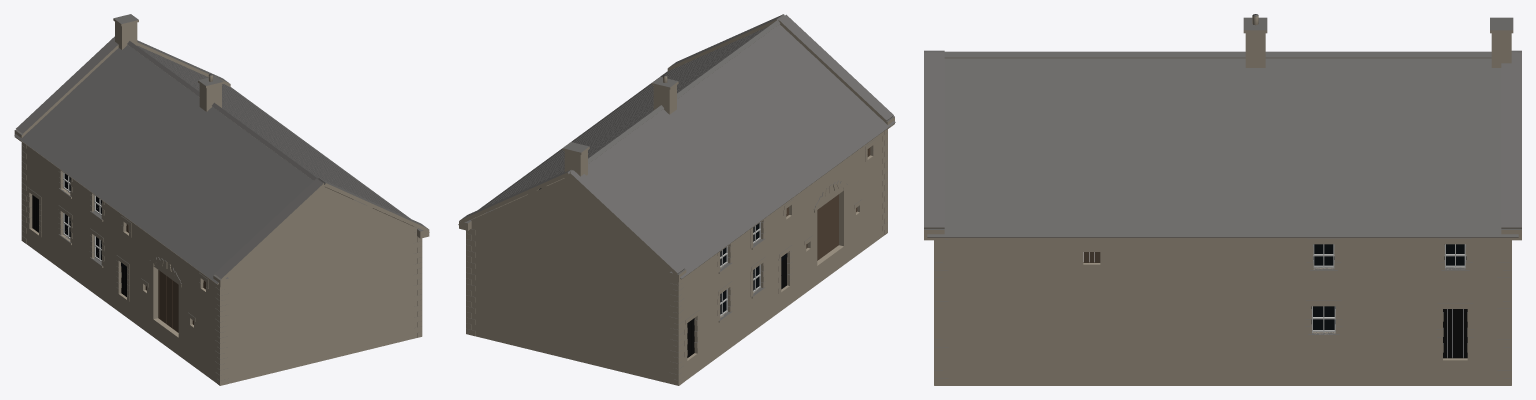
File: context.dales.house_25.glb
The picture shows the model from 3 angles, left to right: view 1: azimuth 30°, elevation 25°; view 2: azimuth 150°, elevation 25°; view 3: azimuth 270°, elevation 25°; orthographic projection. The views are drawn at different scales.
Visible parts, largest first — view 1: main__stone_a98, main__slate_666, main__paint_654, main__rubber, main__glass_dark, main__paint_ccc; view 2: main__stone_a98, main__slate_666, main__paint_654, main__rubber, main__glass_dark, main__paint_ccc; view 3: main__slate_666, main__stone_a98, main__glass_dark, main__rubber, main__paint_ccc.
Boxes of the visible parts, left/top/right/bottom form: main__stone_a98: left=14, top=18, right=429, bottom=385; main__slate_666: left=14, top=14, right=428, bottom=380; main__paint_654: left=126, top=224, right=205, bottom=332; main__rubber: left=32, top=195, right=126, bottom=296; main__glass_dark: left=64, top=173, right=126, bottom=270; main__paint_ccc: left=63, top=172, right=101, bottom=261; main__stone_a98: left=458, top=19, right=894, bottom=385; main__slate_666: left=459, top=14, right=895, bottom=380; main__paint_654: left=786, top=147, right=870, bottom=260; main__rubber: left=687, top=258, right=786, bottom=357; main__glass_dark: left=539, top=188, right=787, bottom=314; main__paint_ccc: left=720, top=222, right=760, bottom=316; main__slate_666: left=924, top=14, right=1521, bottom=378; main__stone_a98: left=924, top=15, right=1521, bottom=385; main__glass_dark: left=1311, top=244, right=1466, bottom=329; main__rubber: left=1443, top=309, right=1467, bottom=358; main__paint_ccc: left=1312, top=244, right=1466, bottom=332.
Bounding box in the file's own units: 12.53 × 11.59 × 21.01.
